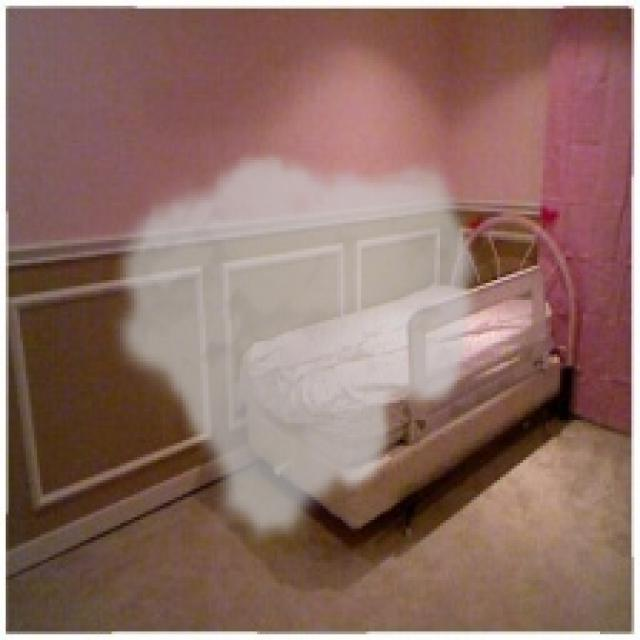smoke: (106, 148, 483, 548)
